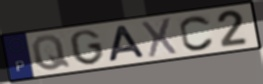2: (218, 8, 251, 50)
A: (106, 24, 148, 64)
C: (179, 14, 216, 52)
G: (68, 28, 106, 66)
Q: (30, 34, 73, 72)
X: (140, 16, 179, 59)
